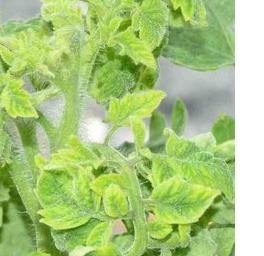Tomato leaf yellow virus: (36, 156, 95, 234), (143, 174, 219, 230), (93, 87, 170, 129), (114, 28, 155, 73), (143, 0, 207, 27), (4, 77, 37, 127)
